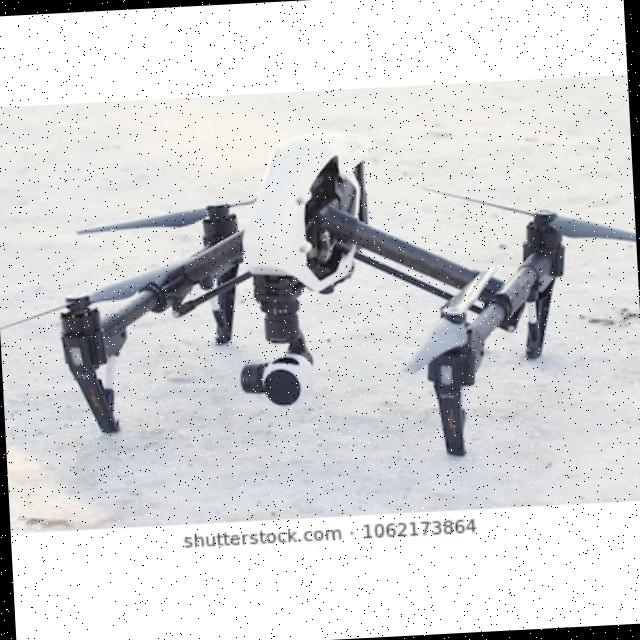Drones: (57, 111, 612, 463)
